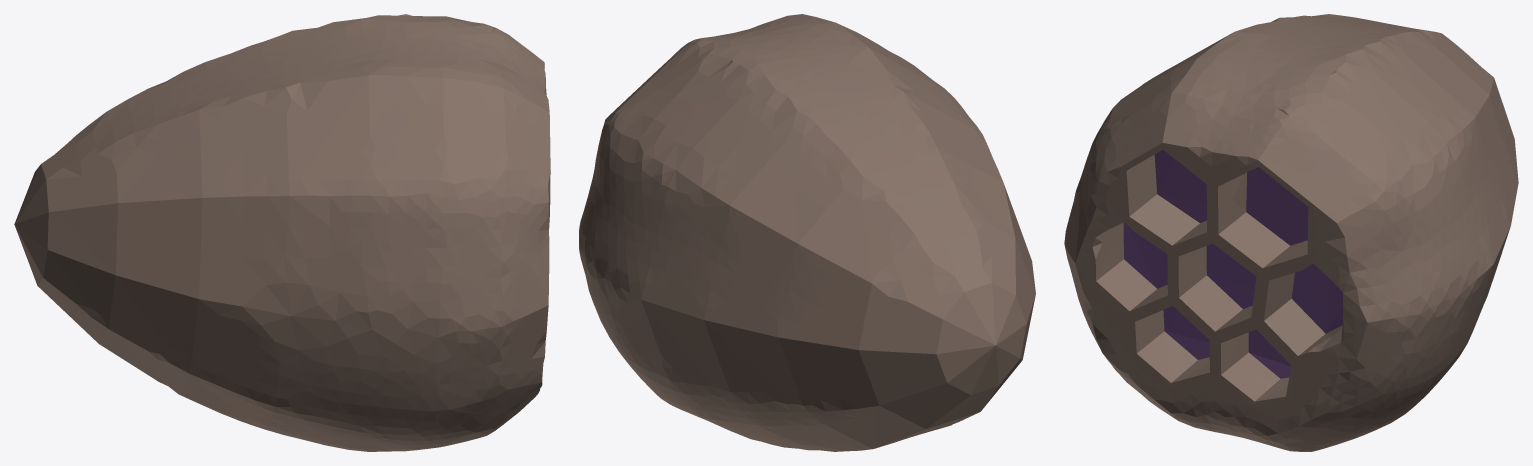
File: Soothesayer Poison.glb
3 views of the same model, side by side, from view 1: azimuth 30°, elevation 25°; view 2: azimuth 150°, elevation 25°; view 3: azimuth 270°, elevation 25° (orthographic). The views are drawn at different scales.
Parts seen in each view (by area): view 1: Sphere; view 2: Sphere; view 3: Sphere.
Part boxes in pixels (x1,y1,x2,y2): Sphere: [14, 14, 550, 451]; Sphere: [579, 14, 1035, 451]; Sphere: [1064, 14, 1518, 451].
Bounding box in the file's own units: 2.83 × 2.19 × 2.42.
1 material, 1 textured.
